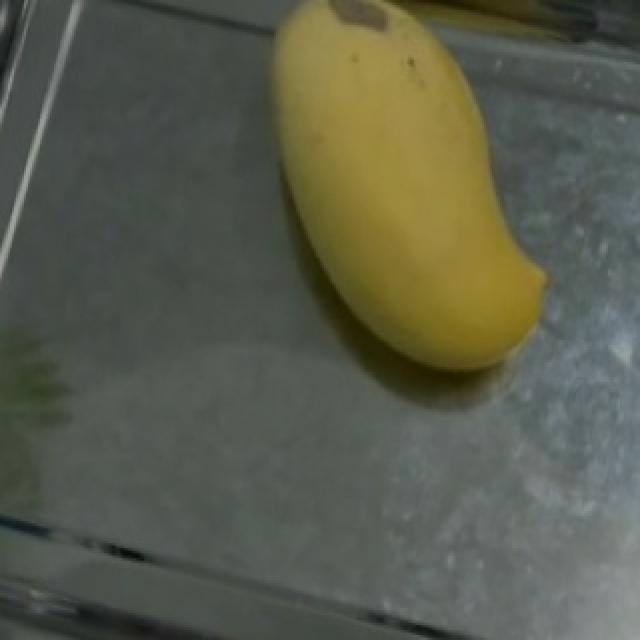fruit: (212, 0, 580, 392)
